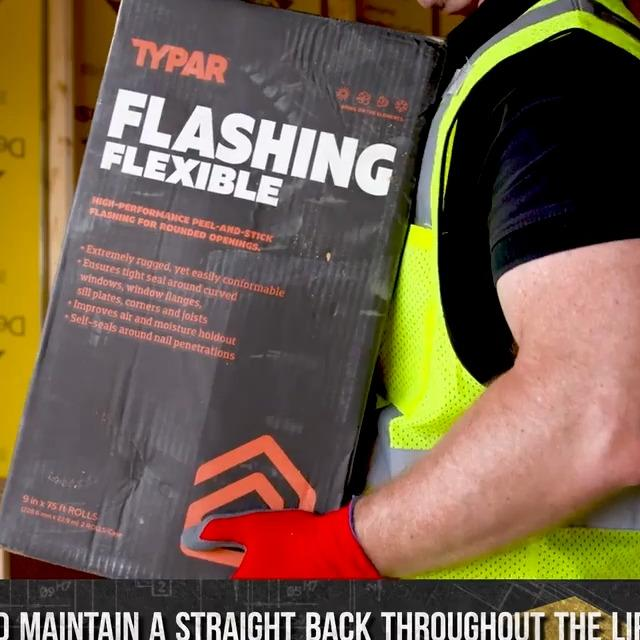Gloves: (182, 496, 385, 583)
NO-Mask: (401, 0, 491, 13)
Person: (180, 0, 640, 578)
Safety Vest: (354, 0, 640, 576)
